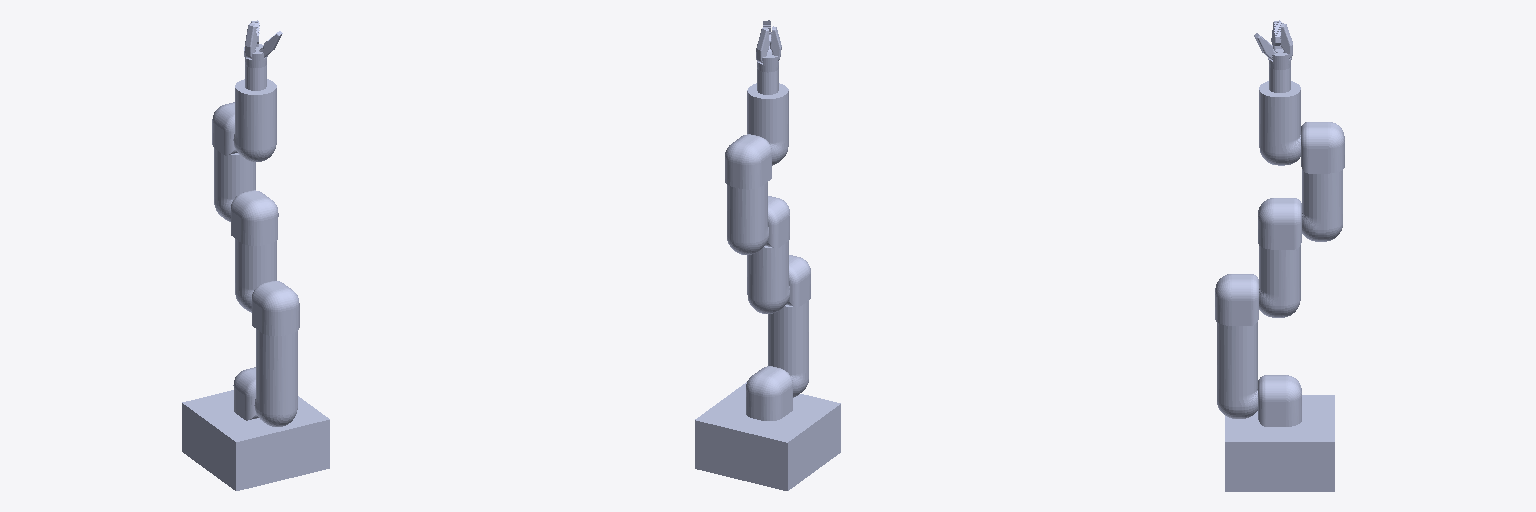
URDF robot description (robot_arm):
<?xml version="1.0" encoding="utf-8"?>
<!-- This URDF was automatically created by SolidWorks to URDF Exporter! Originally created by [author] ([email redacted]) 
     Commit Version: 1.6.0-4-g7f85cfe  Build Version: 1.6.7995.38578
     For more information, please see http://wiki.ros.org/sw_urdf_exporter -->
<robot
  name="robot_arm">
  <link
    name="base_link">
    <visual>
      <origin
        xyz="0 0 0"
        rpy="0 0 0" />
      <geometry>
        <mesh
          filename="package://robot_arm/meshes/base_link.STL" />
      </geometry>
      <material
        name="">
        <color
          rgba="0.79216 0.81961 0.93333 1" />
      </material>
    </visual>
    <collision>
      <origin
        xyz="0 0 0"
        rpy="0 0 0" />
      <geometry>
        <mesh
          filename="package://robot_arm/meshes/base_link.STL" />
      </geometry>
    </collision>
  </link>
  <link
    name="bottom_joint">
    <inertial>
      <origin
        xyz="0.014131 -0.0797 3.3982E-07"
        rpy="0 0 0" />
      <mass
        value="3.2015" />
      <inertia
        ixx="0.010208"
        ixy="0.00023255"
        ixz="-3.1585E-08"
        iyy="0.013642"
        iyz="-2.3611E-08"
        izz="0.013754" />
    </inertial>
    <visual>
      <origin
        xyz="0 0 0"
        rpy="0 0 0" />
      <geometry>
        <mesh
          filename="package://robot_arm/meshes/bottom_joint.STL" />
      </geometry>
      <material
        name="">
        <color
          rgba="0.79216 0.81961 0.93333 1" />
      </material>
    </visual>
    <collision>
      <origin
        xyz="0 0 0"
        rpy="0 0 0" />
      <geometry>
        <mesh
          filename="package://robot_arm/meshes/bottom_joint.STL" />
      </geometry>
    </collision>
  </link>
  <joint
    name="base_to_bottom_joint"
    type="continuous">
    <origin
      xyz="0.2 -0.2 0.2"
      rpy="-1.5708 0 -1.5708" />
    <parent
      link="base_link" />
    <child
      link="bottom_joint" />
    <axis
      xyz="0 1 0" />
    <limit
      lower="0"
      effort="1000"
      velocity="0.2" />
  </joint>
  <link
    name="bottom_arm">
    <inertial>
      <origin
        xyz="-0.076343 0.1498 -1.6853E-07"
        rpy="0 0 0" />
      <mass
        value="6.9965" />
      <inertia
        ixx="0.10239"
        ixy="-0.0012724"
        ixz="3.2569E-08"
        iyy="0.019404"
        iyz="-2.5392E-08"
        izz="0.10187" />
    </inertial>
    <visual>
      <origin
        xyz="0 0 0"
        rpy="0 0 0" />
      <geometry>
        <mesh
          filename="package://robot_arm/meshes/bottom_arm.STL" />
      </geometry>
      <material
        name="">
        <color
          rgba="0.79216 0.81961 0.93333 1" />
      </material>
    </visual>
    <collision>
      <origin
        xyz="0 0 0"
        rpy="0 0 0" />
      <geometry>
        <mesh
          filename="package://robot_arm/meshes/bottom_arm.STL" />
      </geometry>
    </collision>
  </link>
  <joint
    name="bottom_joint_to_bottom_arm"
    type="revolute">
    <origin
      xyz="0.08 -0.08 0"
      rpy="0 0 3.1416" />
    <parent
      link="bottom_joint" />
    <child
      link="bottom_arm" />
    <axis
      xyz="1 0 0" />
    <limit
      lower="-1.5707"
      upper="1.5707"
      effort="1000"
      velocity="0.2" />
  </joint>
  <link
    name="middle_joint">
    <inertial>
      <origin
        xyz="0.0141310468171387 0.0796995257554594 -3.39817394889863E-07"
        rpy="0 0 0" />
      <mass
        value="3.20147466619231" />
      <inertia
        ixx="0.0102081948289242"
        ixy="-0.00023255204965504"
        ixz="3.15853811238355E-08"
        iyy="0.0136416279001367"
        iyz="-2.36106649427157E-08"
        izz="0.0137543601647084" />
    </inertial>
    <visual>
      <origin
        xyz="0 0 0"
        rpy="0 0 0" />
      <geometry>
        <mesh
          filename="package://robot_arm/meshes/middle_joint.STL" />
      </geometry>
      <material
        name="">
        <color
          rgba="0.792156862745098 0.819607843137255 0.933333333333333 1" />
      </material>
    </visual>
    <collision>
      <origin
        xyz="0 0 0"
        rpy="0 0 0" />
      <geometry>
        <mesh
          filename="package://robot_arm/meshes/middle_joint.STL" />
      </geometry>
    </collision>
  </link>
  <joint
    name="bottom_arm_to_middle_joint"
    type="continuous">
    <origin
      xyz="-0.075 0.325 0"
      rpy="0 0 0" />
    <parent
      link="bottom_arm" />
    <child
      link="middle_joint" />
    <axis
      xyz="0 1 0" />
    <limit
      lower="0"
      upper="0"
      effort="1000"
      velocity="0.2" />
  </joint>
  <link
    name="middle_arm">
    <inertial>
      <origin
        xyz="-0.076818 -0.099322 4.7315E-07"
        rpy="0 0 0" />
      <mass
        value="5.1672" />
      <inertia
        ixx="0.046808"
        ixy="0.00079804"
        ixz="-9.6714E-08"
        iyy="0.014071"
        iyz="-6.9812E-08"
        izz="0.046281" />
    </inertial>
    <visual>
      <origin
        xyz="0 0 0"
        rpy="0 0 0" />
      <geometry>
        <mesh
          filename="package://robot_arm/meshes/middle_arm.STL" />
      </geometry>
      <material
        name="">
        <color
          rgba="0.79216 0.81961 0.93333 1" />
      </material>
    </visual>
    <collision>
      <origin
        xyz="0 0 0"
        rpy="0 0 0" />
      <geometry>
        <mesh
          filename="package://robot_arm/meshes/middle_arm.STL" />
      </geometry>
    </collision>
  </link>
  <joint
    name="middle_joint_to_middle_arm"
    type="continuous">
    <origin
      xyz="0.08 0.08 0"
      rpy="0 0 3.1416" />
    <parent
      link="middle_joint" />
    <child
      link="middle_arm" />
    <axis
      xyz="1 0 0" />
  </joint>
  <link
    name="upper_joint">
    <inertial>
      <origin
        xyz="0.0141310468171386 0.0796995257554595 -3.39817394917619E-07"
        rpy="0 0 0" />
      <mass
        value="3.20147466619231" />
      <inertia
        ixx="0.0102081948289242"
        ixy="-0.000232552049655042"
        ixz="3.15853811240998E-08"
        iyy="0.0136416279001367"
        iyz="-2.36106649416667E-08"
        izz="0.0137543601647084" />
    </inertial>
    <visual>
      <origin
        xyz="0 0 0"
        rpy="0 0 0" />
      <geometry>
        <mesh
          filename="package://robot_arm/meshes/upper_joint.STL" />
      </geometry>
      <material
        name="">
        <color
          rgba="0.792156862745098 0.819607843137255 0.933333333333333 1" />
      </material>
    </visual>
    <collision>
      <origin
        xyz="0 0 0"
        rpy="0 0 0" />
      <geometry>
        <mesh
          filename="package://robot_arm/meshes/upper_joint.STL" />
      </geometry>
    </collision>
  </link>
  <joint
    name="middle_arm_to_upper_joint"
    type="continuous">
    <origin
      xyz="-0.075 -0.225 0"
      rpy="0 0 3.1416" />
    <parent
      link="middle_arm" />
    <child
      link="upper_joint" />
    <axis
      xyz="0 1 0" />
  </joint>
  <link
    name="upper_arm">
    <inertial>
      <origin
        xyz="-0.076818 -0.099322 4.7315E-07"
        rpy="0 0 0" />
      <mass
        value="5.1672" />
      <inertia
        ixx="0.046808"
        ixy="0.00079804"
        ixz="-9.6714E-08"
        iyy="0.014071"
        iyz="-6.9812E-08"
        izz="0.046281" />
    </inertial>
    <visual>
      <origin
        xyz="0 0 0"
        rpy="0 0 0" />
      <geometry>
        <mesh
          filename="package://robot_arm/meshes/upper_arm.STL" />
      </geometry>
      <material
        name="">
        <color
          rgba="0.79216 0.81961 0.93333 1" />
      </material>
    </visual>
    <collision>
      <origin
        xyz="0 0 0"
        rpy="0 0 0" />
      <geometry>
        <mesh
          filename="package://robot_arm/meshes/upper_arm.STL" />
      </geometry>
    </collision>
  </link>
  <joint
    name="upper_joint_to_upper_arm"
    type="continuous">
    <origin
      xyz="0.08 0.08 0"
      rpy="0 0 3.1416" />
    <parent
      link="upper_joint" />
    <child
      link="upper_arm" />
    <axis
      xyz="1 0 0" />
  </joint>
  <link
    name="grabber_joint">
    <inertial>
      <origin
        xyz="0.014131 -0.0797 3.3982E-07"
        rpy="0 0 0" />
      <mass
        value="3.2015" />
      <inertia
        ixx="0.010208"
        ixy="0.00023255"
        ixz="-3.1585E-08"
        iyy="0.013642"
        iyz="-2.3611E-08"
        izz="0.013754" />
    </inertial>
    <visual>
      <origin
        xyz="0 0 0"
        rpy="0 0 0" />
      <geometry>
        <mesh
          filename="package://robot_arm/meshes/grabber_joint.STL" />
      </geometry>
      <material
        name="">
        <color
          rgba="0.79216 0.81961 0.93333 1" />
      </material>
    </visual>
    <collision>
      <origin
        xyz="0 0 0"
        rpy="0 0 0" />
      <geometry>
        <mesh
          filename="package://robot_arm/meshes/grabber_joint.STL" />
      </geometry>
    </collision>
  </link>
  <joint
    name="upper_arm_to_grabber_joint"
    type="continuous">
    <origin
      xyz="-0.075 -0.225 0"
      rpy="0 0 0" />
    <parent
      link="upper_arm" />
    <child
      link="grabber_joint" />
    <axis
      xyz="0 1 0" />
  </joint>
  <link
    name="grabber_arm">
    <inertial>
      <origin
        xyz="-0.077322 0.07839 -7.6089E-07"
        rpy="0 0 0" />
      <mass
        value="4.0448" />
      <inertia
        ixx="0.033872"
        ixy="-0.00060138"
        ixz="1.3006E-07"
        iyy="0.013101"
        iyz="-6.6854E-08"
        izz="0.03334" />
    </inertial>
    <visual>
      <origin
        xyz="0 0 0"
        rpy="0 0 0" />
      <geometry>
        <mesh
          filename="package://robot_arm/meshes/grabber_arm.STL" />
      </geometry>
      <material
        name="">
        <color
          rgba="0.79216 0.81961 0.93333 1" />
      </material>
    </visual>
    <collision>
      <origin
        xyz="0 0 0"
        rpy="0 0 0" />
      <geometry>
        <mesh
          filename="package://robot_arm/meshes/grabber_arm.STL" />
      </geometry>
    </collision>
  </link>
  <joint
    name="grabber_joint_to_grabber_arm"
    type="continuous">
    <origin
      xyz="0.08 -0.08 0"
      rpy="0 0 3.1416" />
    <parent
      link="grabber_joint" />
    <child
      link="grabber_arm" />
    <axis
      xyz="1 0 0" />
  </joint>
  <link
    name="grabber_piston">
    <inertial>
      <origin
        xyz="5.5511E-17 0.10268 -2.7756E-17"
        rpy="0 0 0" />
      <mass
        value="1.0304" />
      <inertia
        ixx="0.0040532"
        ixy="-8.5736E-19"
        ixz="-6.7763E-21"
        iyy="0.00080927"
        iyz="-2.6904E-19"
        izz="0.0040532" />
    </inertial>
    <visual>
      <origin
        xyz="0 0 0"
        rpy="0 0 0" />
      <geometry>
        <mesh
          filename="package://robot_arm/meshes/grabber_piston.STL" />
      </geometry>
      <material
        name="">
        <color
          rgba="0.79216 0.81961 0.93333 1" />
      </material>
    </visual>
    <collision>
      <origin
        xyz="0 0 0"
        rpy="0 0 0" />
      <geometry>
        <mesh
          filename="package://robot_arm/meshes/grabber_piston.STL" />
      </geometry>
    </collision>
  </link>
  <joint
    name="grabber_arm_to_grabber_piston"
    type="prismatic">
    <origin
      xyz="-0.075 0.1173 0"
      rpy="3.1416 -0.0061828 3.1416" />
    <parent
      link="grabber_arm" />
    <child
      link="grabber_piston" />    
    <axis xyz="0 1 0" />
    <limit lower="-0.055" upper="0.08" effort="1000.0" velocity="0.2"/>
  </joint>
  <link
    name="grabber_hand">
    <inertial>
      <origin
        xyz="-0.00026704 0.031012 0.00030049"
        rpy="0 0 0" />
      <mass
        value="0.27089" />
      <inertia
        ixx="0.00021136"
        ixy="8.8018E-07"
        ixz="-3.3493E-06"
        iyy="0.00026578"
        iyz="-9.9051E-07"
        izz="0.00021215" />
    </inertial>
    <visual>
      <origin
        xyz="0 0 0"
        rpy="0 0 0" />
      <geometry>
        <mesh
          filename="package://robot_arm/meshes/grabber_hand.STL" />
      </geometry>
      <material
        name="">
        <color
          rgba="0.79216 0.81961 0.93333 1" />
      </material>
    </visual>
    <collision>
      <origin
        xyz="0 0 0"
        rpy="0 0 0" />
      <geometry>
        <mesh
          filename="package://robot_arm/meshes/grabber_hand.STL" />
      </geometry>
    </collision>
  </link>
  <joint
    name="grabber_piston_to_grabber_hand"
    type="continuous">
    <origin
      xyz="0 0.2 0"
      rpy="0 -1.162 0" />
    <parent
      link="grabber_piston" />
    <child
      link="grabber_hand" />
    <axis
      xyz="0 1 0" />
  </joint>
  <link
    name="finger1">
    <inertial>
      <origin
        xyz="-0.0157173465708449 -0.0477497312200732 -4.07126280188574E-08"
        rpy="0 0 0" />
      <mass
        value="0.0988537391283158" />
      <inertia
        ixx="9.50542574417172E-05"
        ixy="-2.91255806193222E-05"
        ixz="-3.08880454206854E-11"
        iyy="2.62004973558784E-05"
        iyz="-1.01747890321299E-10"
        izz="0.000107034367450492" />
    </inertial>
    <visual>
      <origin
        xyz="0 0 0"
        rpy="0 0 0" />
      <geometry>
        <mesh
          filename="package://robot_arm/meshes/finger1.STL" />
      </geometry>
      <material
        name="">
        <color
          rgba="0.792156862745098 0.819607843137255 0.933333333333333 1" />
      </material>
    </visual>
    <collision>
      <origin
        xyz="0 0 0"
        rpy="0 0 0" />
      <geometry>
        <mesh
          filename="package://robot_arm/meshes/finger1.STL" />
      </geometry>
    </collision>
  </link>
  <joint
    name="grabber_hand_to_finger1"
    type="revolute">
    <origin
      xyz="-0.0049677 0.05 -0.032044"
      rpy="-0.51216 -1.3941 0.51889" />
    <parent
      link="grabber_hand" />
    <child
      link="finger1" />
    <axis
      xyz="0 0 1" />
    <limit
      lower="3.30"
      upper="4.71239"
      effort="1000"
      velocity="0.2" />
  </joint>
  <link
    name="finger2">
    <inertial>
      <origin
        xyz="-0.0251160869179729 0.0525797434701063 -2.61195697293104E-08"
        rpy="0 0 0" />
      <mass
        value="0.0988538356110605" />
      <inertia
        ixx="0.000102939632296679"
        ixy="-1.55944081583831E-05"
        ixz="-1.61170288337617E-11"
        iyy="1.83152023316163E-05"
        iyz="1.07013872177474E-10"
        izz="0.000107034404257792" />
    </inertial>
    <visual>
      <origin
        xyz="0 0 0"
        rpy="0 0 0" />
      <geometry>
        <mesh
          filename="package://robot_arm/meshes/finger2.STL" />
      </geometry>
      <material
        name="">
        <color
          rgba="0.792156862745098 0.819607843137255 0.933333333333333 1" />
      </material>
    </visual>
    <collision>
      <origin
        xyz="0 0 0"
        rpy="0 0 0" />
      <geometry>
        <mesh
          filename="package://robot_arm/meshes/finger2.STL" />
      </geometry>
    </collision>
  </link>
  <joint
    name="grabber_hand_to_finger2"
    type="revolute">
    <origin
      xyz="0 0.05 0"
      rpy="3.1384 0.036009 3.0543" />
    <parent
      link="grabber_hand" />
    <child
      link="finger2" />
    <axis
      xyz="0 0 1" />
    <limit
      lower="0"
      upper="1.4835"
      effort="1000"
      velocity="0.2" />
  </joint>
  <link
    name="finger3">
    <inertial>
      <origin
        xyz="-0.00734186187168674 0.0497535960170317 -0.0568432156031469"
        rpy="0 0 0" />
      <mass
        value="0.0988537441444356" />
      <inertia
        ixx="0.000102939604732126"
        ixy="-1.55944135721699E-05"
        ixz="1.38404919052963E-11"
        iyy="1.83151606305742E-05"
        iyz="1.1052084202375E-10"
        izz="0.000107034373658298" />
    </inertial>
    <visual>
      <origin
        xyz="0 0 0"
        rpy="0 0 0" />
      <geometry>
        <mesh
          filename="package://robot_arm/meshes/finger3.STL" />
      </geometry>
      <material
        name="">
        <color
          rgba="0.792156862745098 0.819607843137255 0.933333333333333 1" />
      </material>
    </visual>
    <collision>
      <origin
        xyz="0 0 0"
        rpy="0 0 0" />
      <geometry>
        <mesh
          filename="package://robot_arm/meshes/finger3.STL" />
      </geometry>
    </collision>
  </link>
  <joint
    name="grabber_hand_to_finger3"
    type="revolute">
    <origin
      xyz="0.030598 0.05 0.051139"
      rpy="0 0.84423 0" />
    <parent
      link="grabber_hand" />
    <child
      link="finger3" />
    <axis
      xyz="0 0 1" />
    <limit
      lower="0"
      upper="1.5708"
      effort="1000"
      velocity="0.2" />
  </joint>
</robot>

--- Render facts (derived) ---
3 views of the same robot in one strip: view 1: azimuth 30°, elevation 25°; view 2: azimuth 150°, elevation 25°; view 3: azimuth 270°, elevation 25° (orthographic).
Robot: robot_arm — 14 links, 13 joints (4 revolute, 8 continuous, 1 prismatic); root link base_link; default pose: joints at zero except 1 at the middle of their limits (grabber_hand_to_finger1 = 4.01).
Links seen in each view (by area): view 1: base_link, bottom_arm, grabber_arm, middle_joint, upper_joint, middle_arm, upper_arm, grabber_joint, bottom_joint; view 2: base_link, bottom_arm, upper_arm, middle_arm, grabber_arm, grabber_joint, bottom_joint, upper_joint, middle_joint; view 3: base_link, bottom_arm, grabber_arm, middle_arm, upper_arm, upper_joint, bottom_joint, middle_joint, grabber_joint.
Link boxes in pixels (x1,y1,x2,y2): base_link: (182,390,329,490); bottom_arm: (254,329,297,426); grabber_arm: (233,79,276,161); middle_joint: (252,281,299,336); upper_joint: (231,190,278,245); middle_arm: (235,239,276,312); upper_arm: (214,148,255,221); grabber_joint: (212,102,237,155); bottom_joint: (233,367,258,420); base_link: (695,382,840,490); bottom_arm: (768,301,808,397); upper_arm: (727,182,768,254); middle_arm: (747,241,789,313); grabber_arm: (747,83,788,165); grabber_joint: (725,134,771,189); bottom_joint: (746,366,792,420); upper_joint: (765,196,789,248); middle_joint: (786,255,810,307); base_link: (1225,395,1334,491); bottom_arm: (1217,322,1257,418); grabber_arm: (1259,81,1300,165); middle_arm: (1259,245,1300,317); upper_arm: (1302,169,1342,241); upper_joint: (1258,198,1301,249); bottom_joint: (1258,375,1301,426); middle_joint: (1215,274,1258,325); grabber_joint: (1301,122,1344,173).
Bounding box of the posed robot: 0.4 × 0.47 × 1.78 m (x, y, z).
Meshes: 14 distinct files referenced, 14 mesh visuals loaded (14 binary STL).